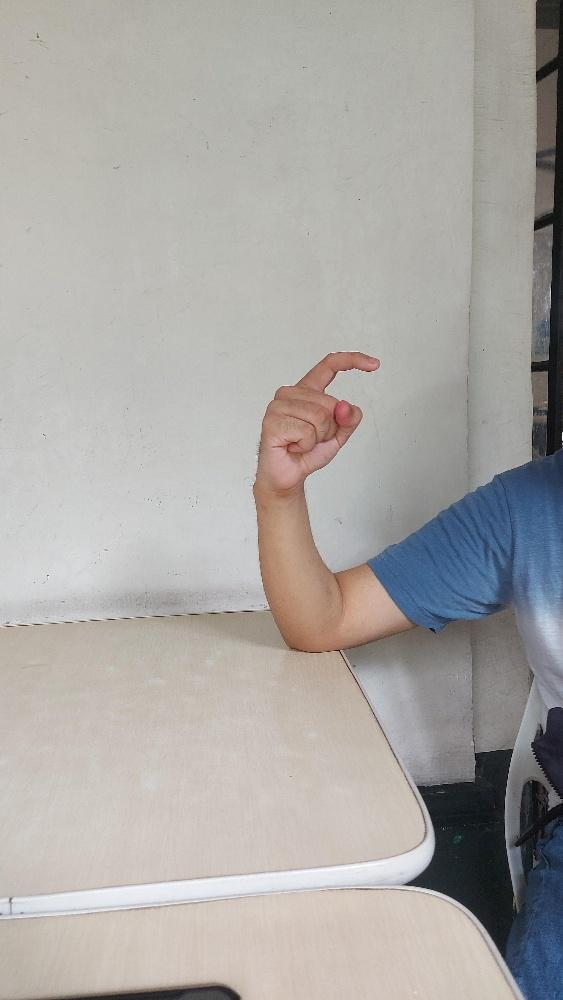x: (252, 350, 380, 492)
